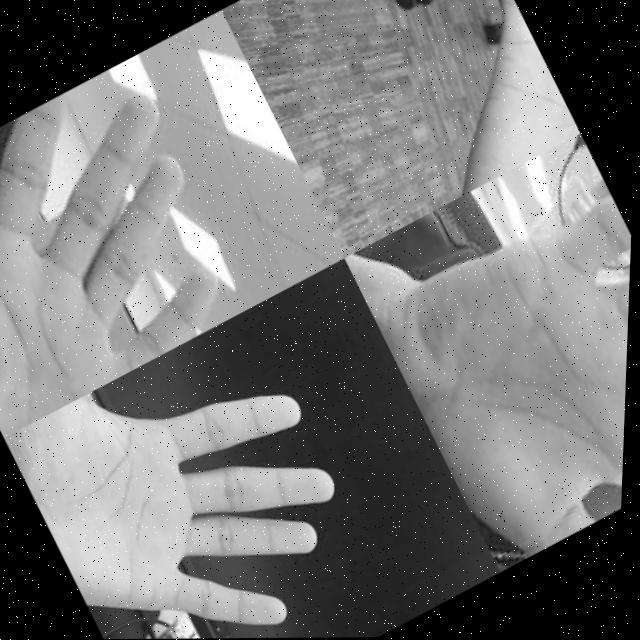hand: (0, 304, 400, 640), (362, 181, 635, 573), (0, 54, 264, 436), (332, 0, 585, 207)
